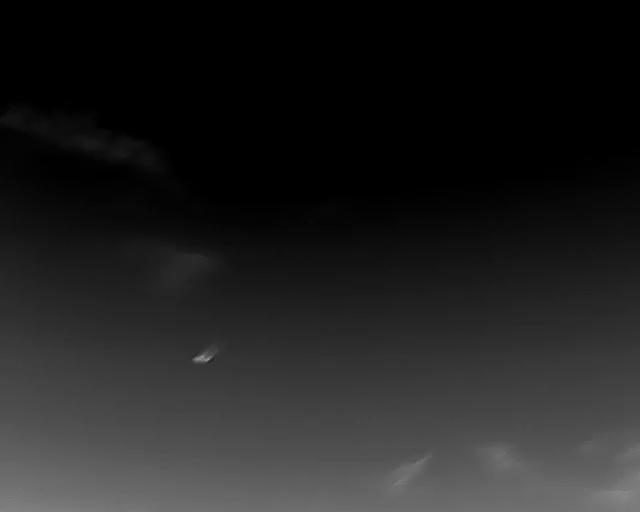fpv-drone: (192, 344, 220, 363)
